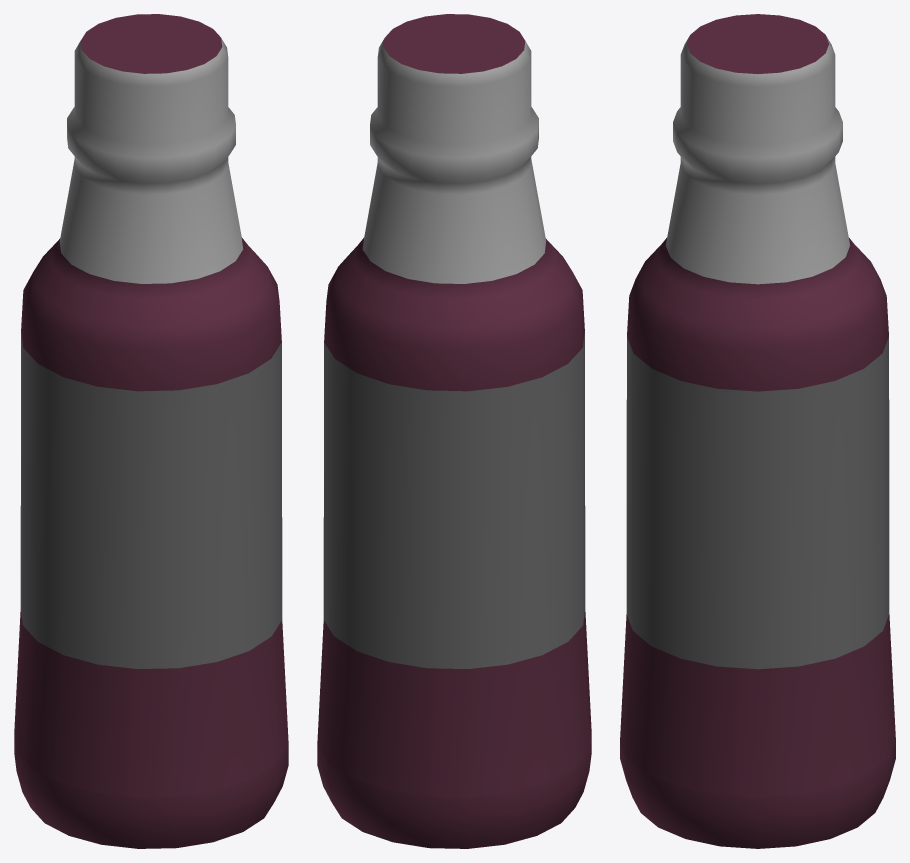
Rendered from WineBottle_FBX.fbx.
3 renders of one model, left to right at view 1: azimuth 30°, elevation 25°; view 2: azimuth 150°, elevation 25°; view 3: azimuth 270°, elevation 25°, orthographic.
Visible parts, largest first — view 1: pCylinder1; view 2: pCylinder1; view 3: pCylinder1.
Part boxes in pixels (x1,y1,x2,y2): pCylinder1: [14, 14, 288, 848]; pCylinder1: [317, 14, 591, 848]; pCylinder1: [620, 14, 895, 848].
Bounding box in the file's own units: 2.46 × 7.4 × 2.46.
